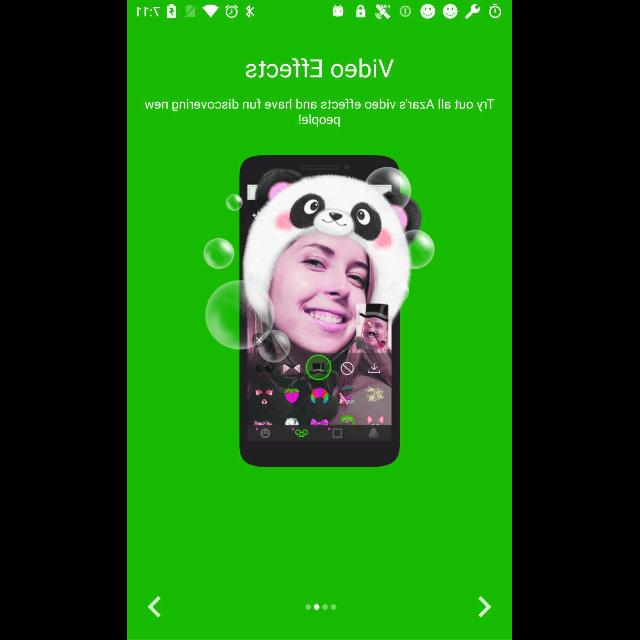icon: (148, 596, 162, 618), (479, 596, 493, 618)
image: (204, 155, 436, 467)
pageindicator: (306, 604, 338, 610)
text: (145, 99, 495, 128), (247, 58, 396, 78)
uppertaskbar: (128, 1, 512, 23)
